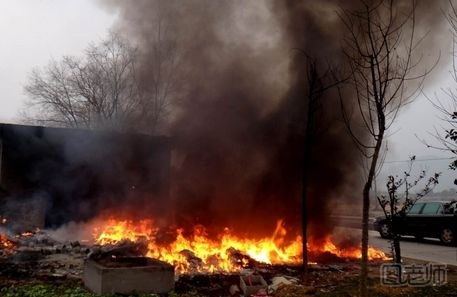fire: (84, 201, 390, 271), (0, 212, 38, 251)
